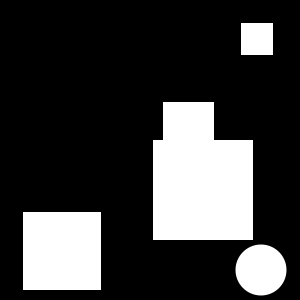circle: (153, 140, 253, 240), (23, 212, 101, 290), (163, 102, 214, 153), (241, 23, 273, 55)
rectangle: (236, 245, 286, 296)
